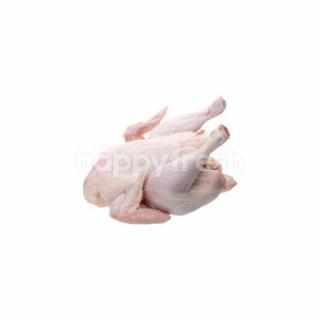Ayam: (86, 97, 239, 226)
